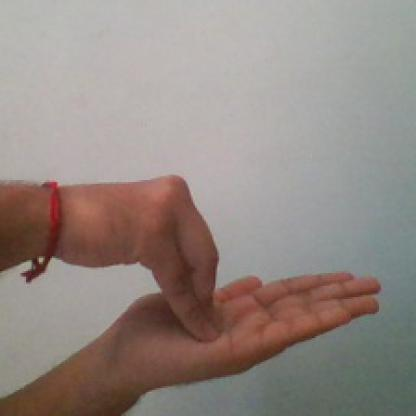Z: (78, 169, 384, 399)
